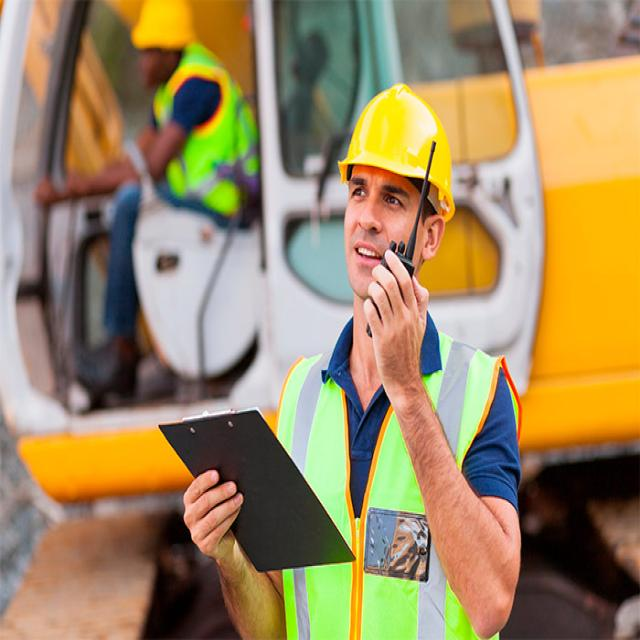secure person: (275, 86, 520, 640), (93, 0, 260, 351)
